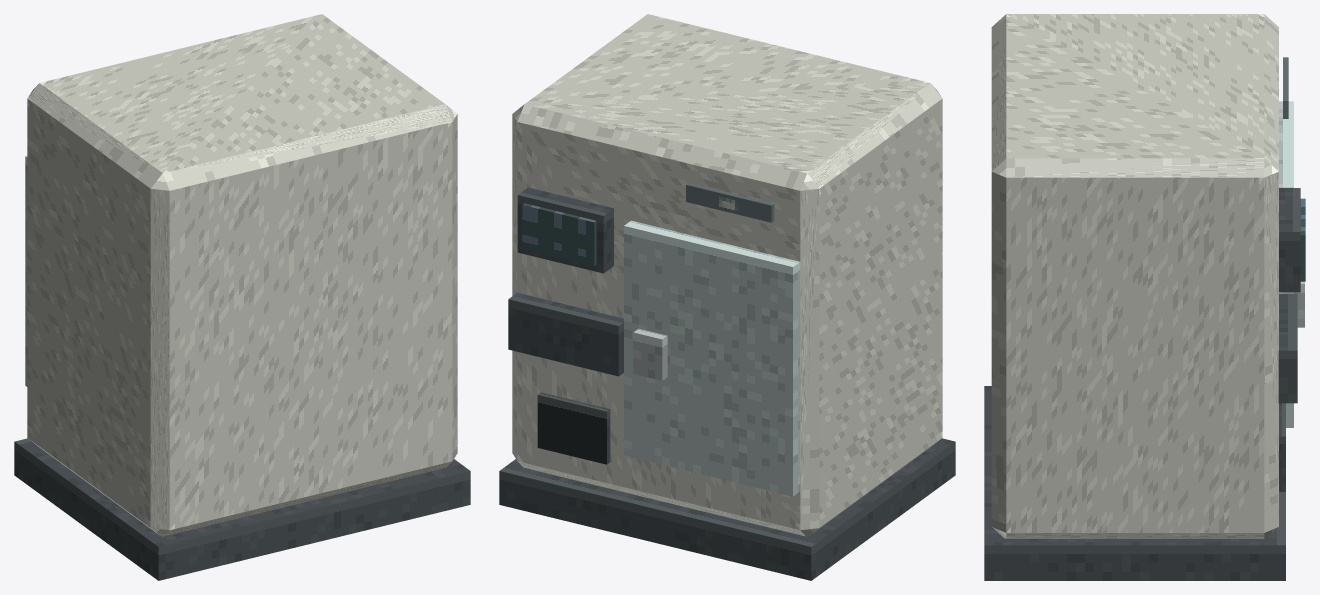
3 views of the same model, side by side, from view 1: azimuth 30°, elevation 25°; view 2: azimuth 150°, elevation 25°; view 3: azimuth 270°, elevation 25° (orthographic). The views are drawn at different scales.
Parts seen in each view (by area): view 1: block_white-detector-enclosure, block_white-spectrometer-footing, block_detector-access-door; view 2: block_white-detector-enclosure, block_detector-access-door, block_white-spectrometer-footing, block_sample-inlet-tray, block_spectrometer-side-vent, block_mass-spectrum-monitor-display, block_mass-spectrum-monitor-bezel, block_spectrometer-label, block_detector-door-handle; view 3: block_white-detector-enclosure, block_white-spectrometer-footing, block_mass-spectrum-monitor-bezel, block_sample-inlet-tray, block_detector-access-door, block_spectrometer-side-vent, block_mass-spectrum-monitor-display.
Boxes of the visible parts, bbox=[...] form: block_white-detector-enclosure: bbox=[27, 14, 457, 536]; block_white-spectrometer-footing: bbox=[14, 438, 470, 580]; block_detector-access-door: bbox=[25, 155, 27, 386]; block_white-detector-enclosure: bbox=[512, 14, 942, 536]; block_detector-access-door: bbox=[624, 220, 800, 496]; block_white-spectrometer-footing: bbox=[499, 438, 955, 580]; block_sample-inlet-tray: bbox=[508, 292, 623, 376]; block_spectrometer-side-vent: bbox=[537, 392, 610, 464]; block_mass-spectrum-monitor-display: bbox=[522, 203, 596, 266]; block_mass-spectrum-monitor-bezel: bbox=[517, 187, 613, 273]; block_spectrometer-label: bbox=[686, 183, 774, 222]; block_detector-door-handle: bbox=[633, 328, 667, 380]; block_white-detector-enclosure: bbox=[991, 14, 1278, 538]; block_white-spectrometer-footing: bbox=[984, 386, 1285, 580]; block_mass-spectrum-monitor-bezel: bbox=[1279, 188, 1300, 292]; block_sample-inlet-tray: bbox=[1278, 294, 1297, 403]; block_detector-access-door: bbox=[1279, 101, 1293, 427]; block_spectrometer-side-vent: bbox=[1279, 403, 1285, 491]; block_mass-spectrum-monitor-display: bbox=[1300, 198, 1305, 281].
Bounding box in the file's own units: 0.856 × 1.04 × 0.729.
1 material, 1 textured.
